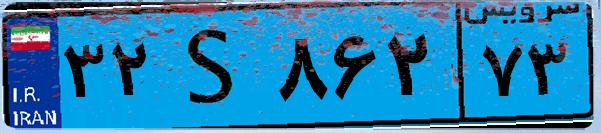2: (385, 28, 445, 110), (110, 28, 158, 98)
3: (57, 26, 110, 100), (525, 38, 570, 115)
6: (330, 28, 385, 110)
7: (475, 38, 525, 113)
8: (270, 28, 330, 110)
S: (158, 12, 270, 120)
